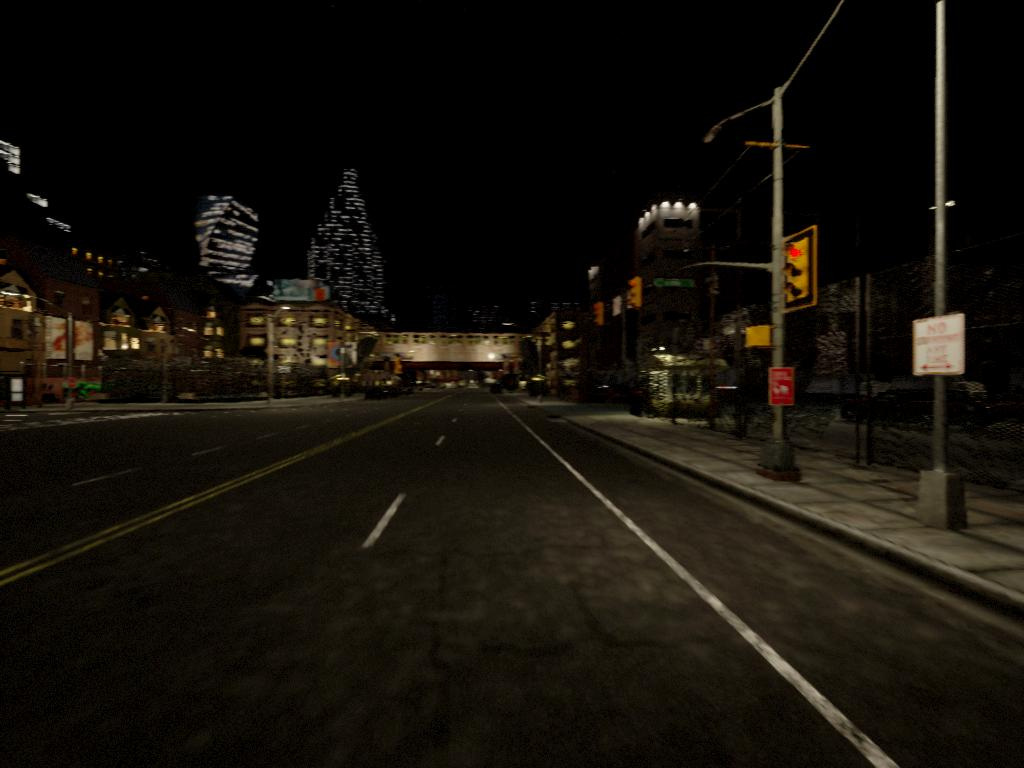traffic_light: (788, 234, 816, 307), (629, 277, 644, 311), (593, 302, 607, 326)
